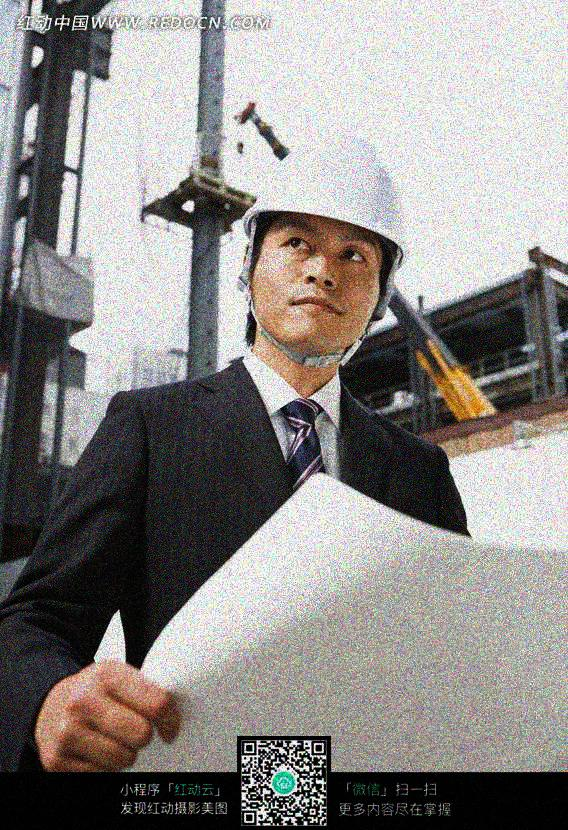helmet: (238, 134, 413, 366)
